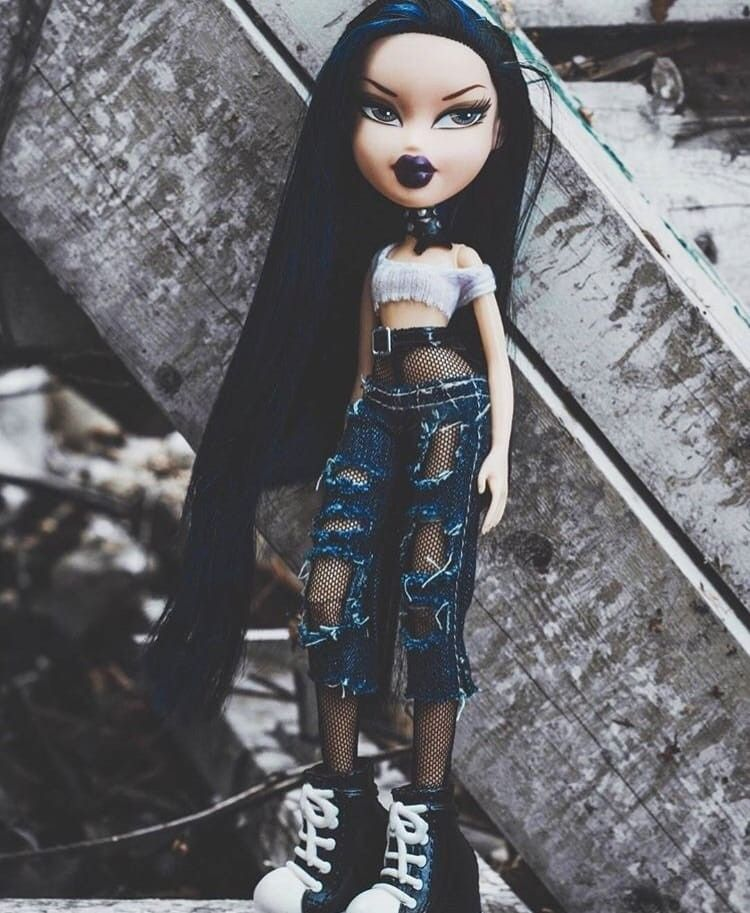Imprimante: (372, 449, 490, 690)
